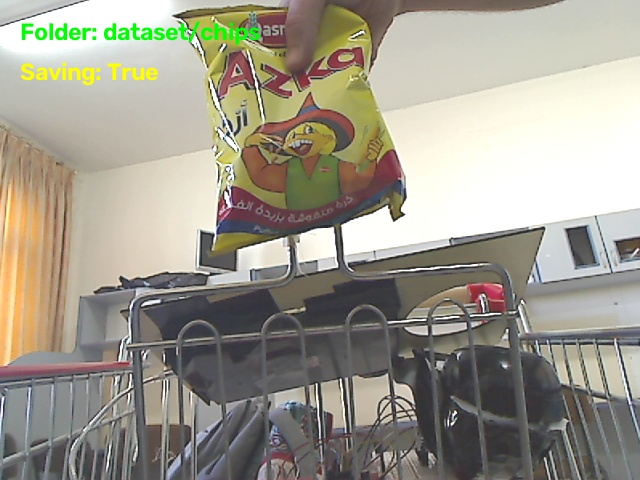chips: (177, 6, 404, 253)
